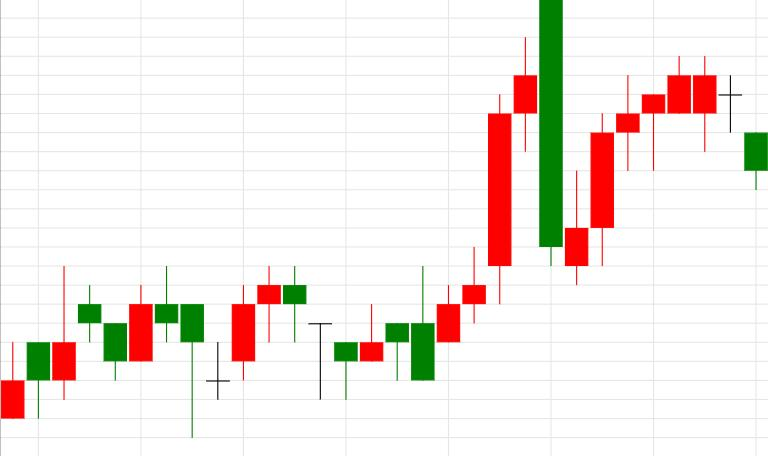bearish_engulfing_fall: (412, 0, 563, 380)
